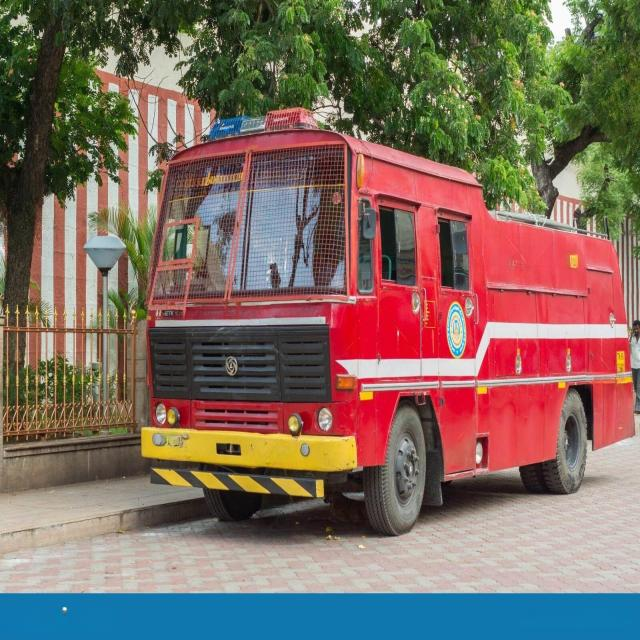emergency: (141, 109, 634, 534)
